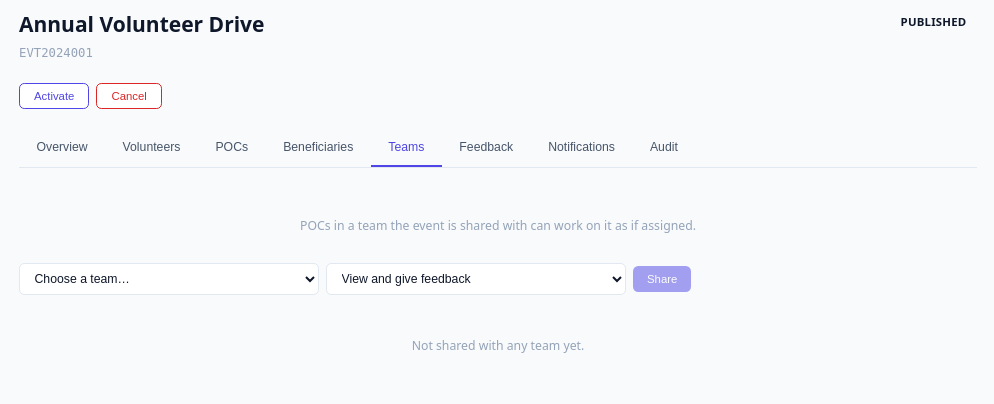
it: EventDetailContent › sharing with teams › shares the event with a team at the chosen access
The image size is (994, 404).
Select "Mumbai Crew" in the dropdown named "Team to share with" at (169, 279), box [19, 263, 319, 295]
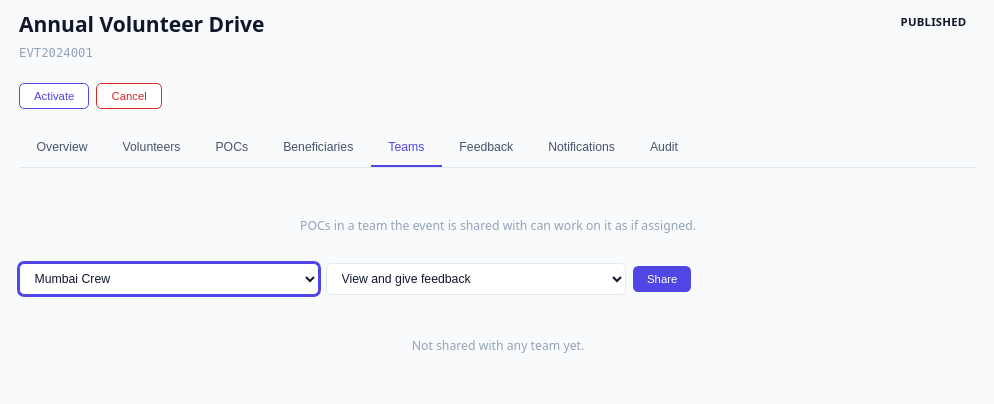
Select "Also record attendance" in the dropdown named "Access" at (476, 279), box [326, 263, 626, 295]
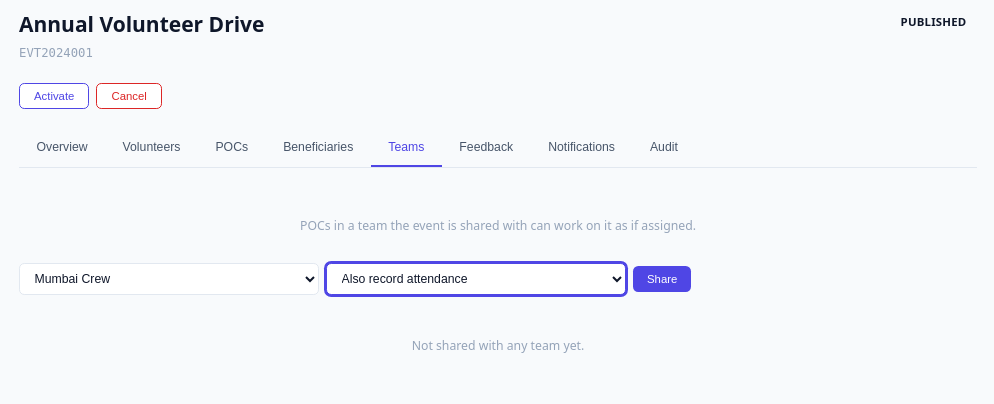
Click the button "Share".
click(662, 279)  # box [633, 266, 691, 292]
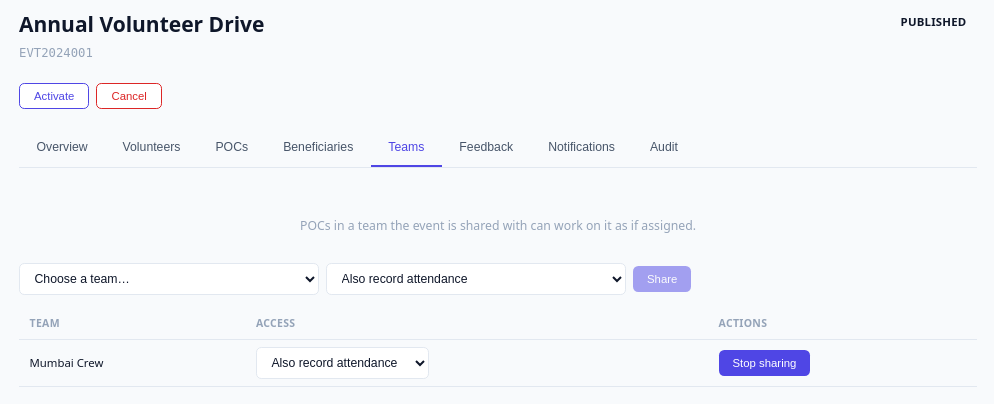
Check: the text "Mumbai Crew" is shown, box [19, 339, 245, 386]
